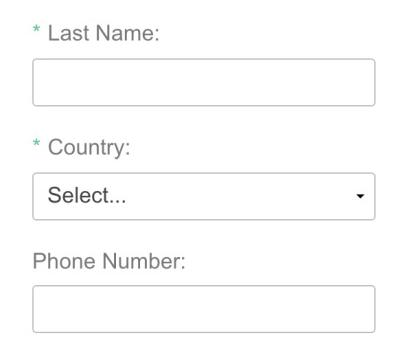field: (30, 54, 377, 107), (29, 171, 379, 222), (29, 282, 378, 333)
field_with_label: (24, 134, 382, 227), (26, 22, 383, 111), (24, 252, 382, 337)
